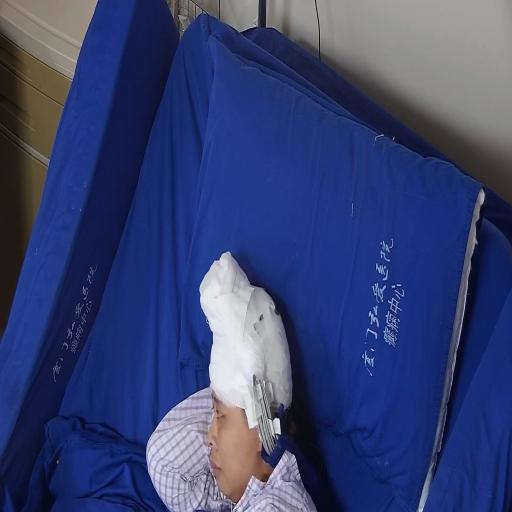Seizure: (199, 362, 283, 494)
